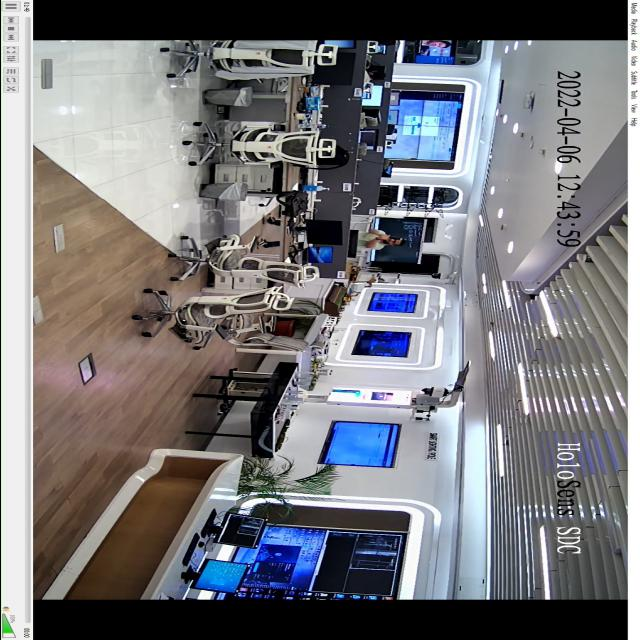long weapon: (376, 233, 409, 245)
